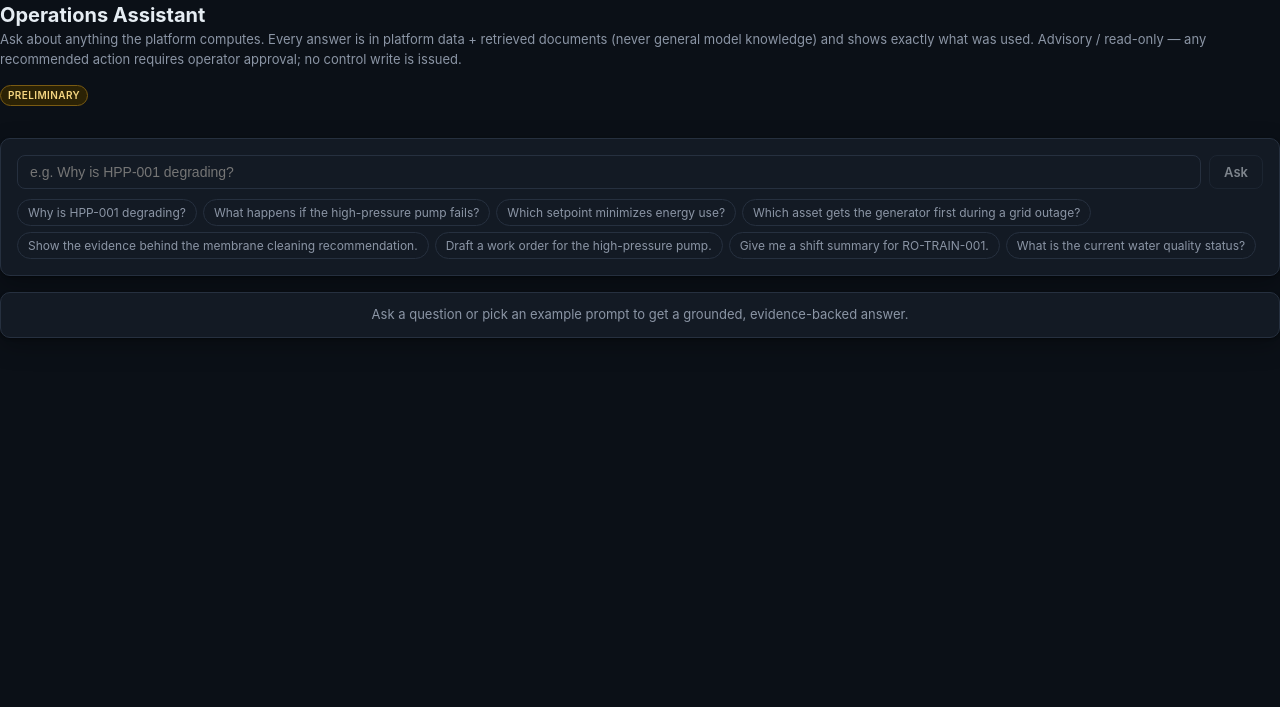
Test case: OperationsAssistant › shows cited sources with provenance badges and a resolvable location
Click the button with test id "example-explain_degradation" at [107, 212], box [17,199,197,226]
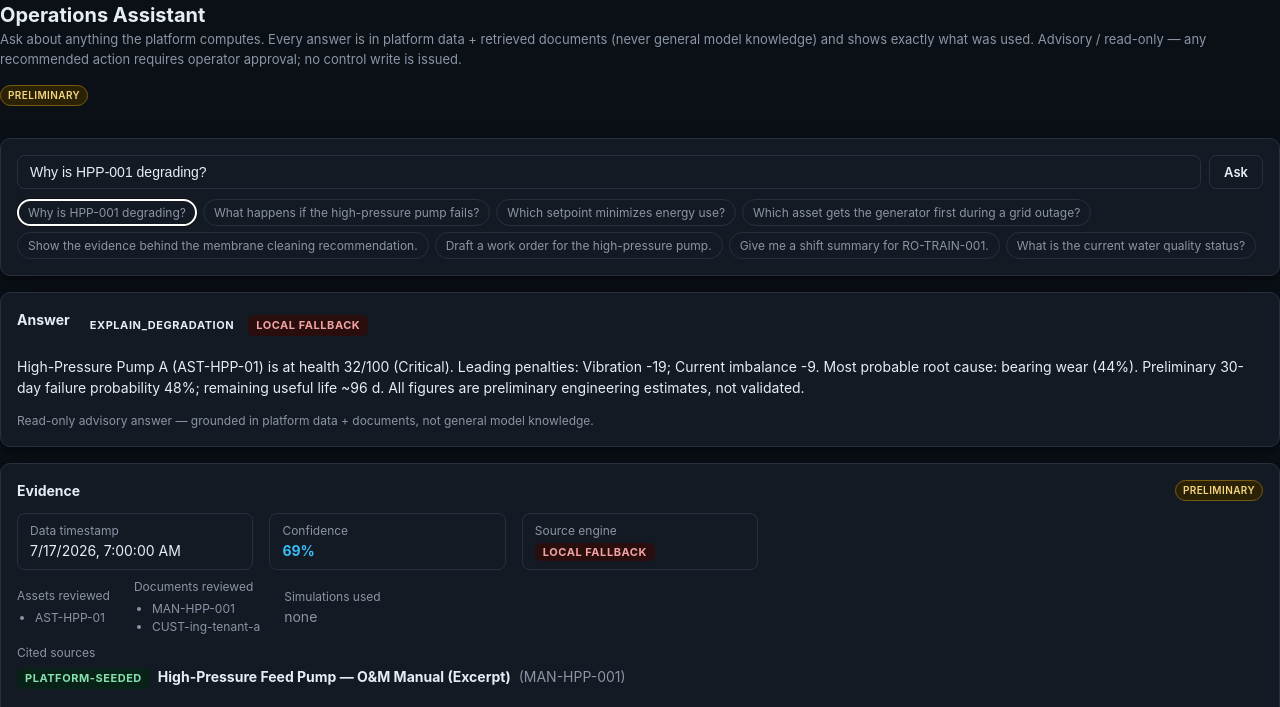
Check: the list item with test id "citation" that starts with "Platform-seeded" is shown, box [17,668,626,688]
Check: the text with test id "source-badge" reads "Platform-seeded", box [25,671,142,685]
